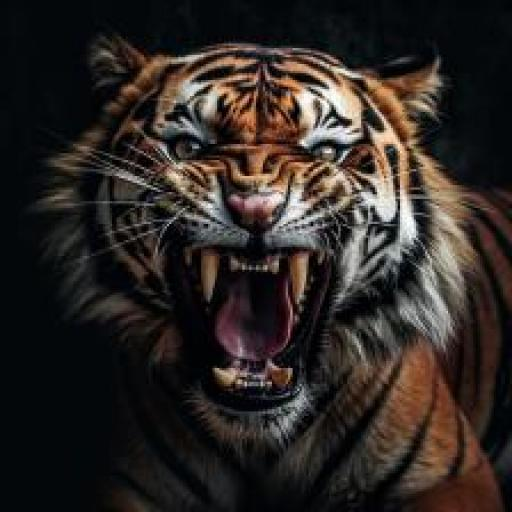Tiger: (39, 20, 490, 476)
